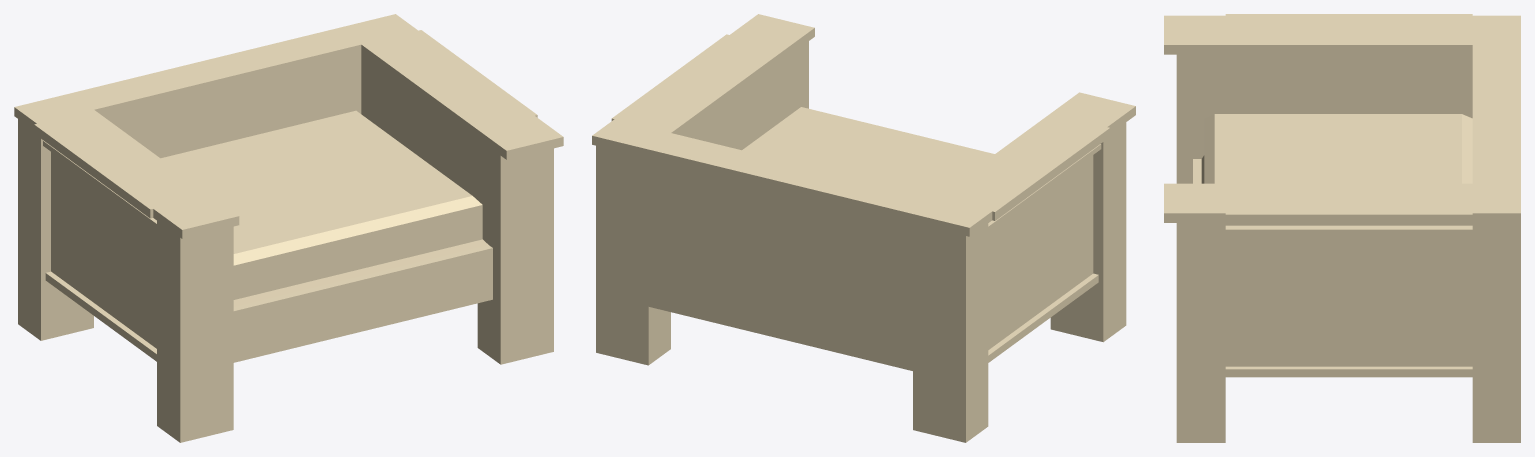
File: SmallSofa.glb
3 renders of one model, left to right at view 1: azimuth 30°, elevation 25°; view 2: azimuth 150°, elevation 25°; view 3: azimuth 270°, elevation 25°, orthographic. The views are drawn at different scales.
Parts seen in each view (by area): view 1: Cube_Cube.001; view 2: Cube_Cube.001; view 3: Cube_Cube.001.
Part boxes in pixels (left/top/right/bottom): Cube_Cube.001: left=14, top=14, right=563, bottom=442; Cube_Cube.001: left=592, top=14, right=1135, bottom=442; Cube_Cube.001: left=1164, top=14, right=1520, bottom=442.
Size of the model in its own units: 2.9 by 1.56 by 2.18.
